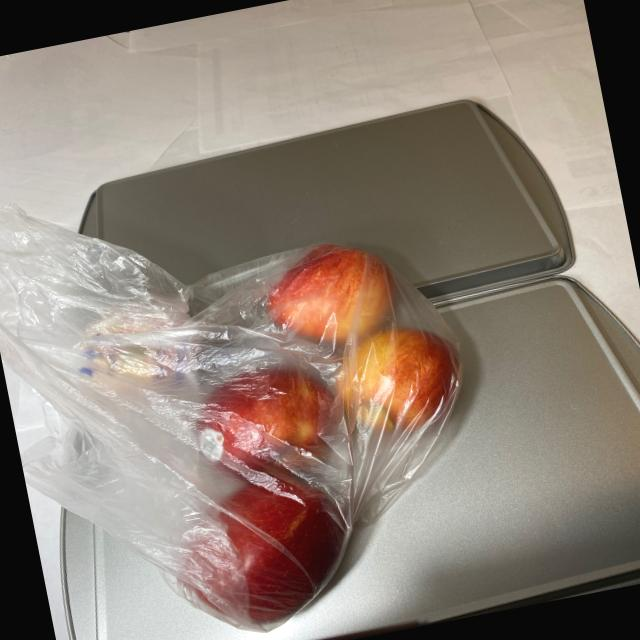apple: (61, 209, 508, 640)
